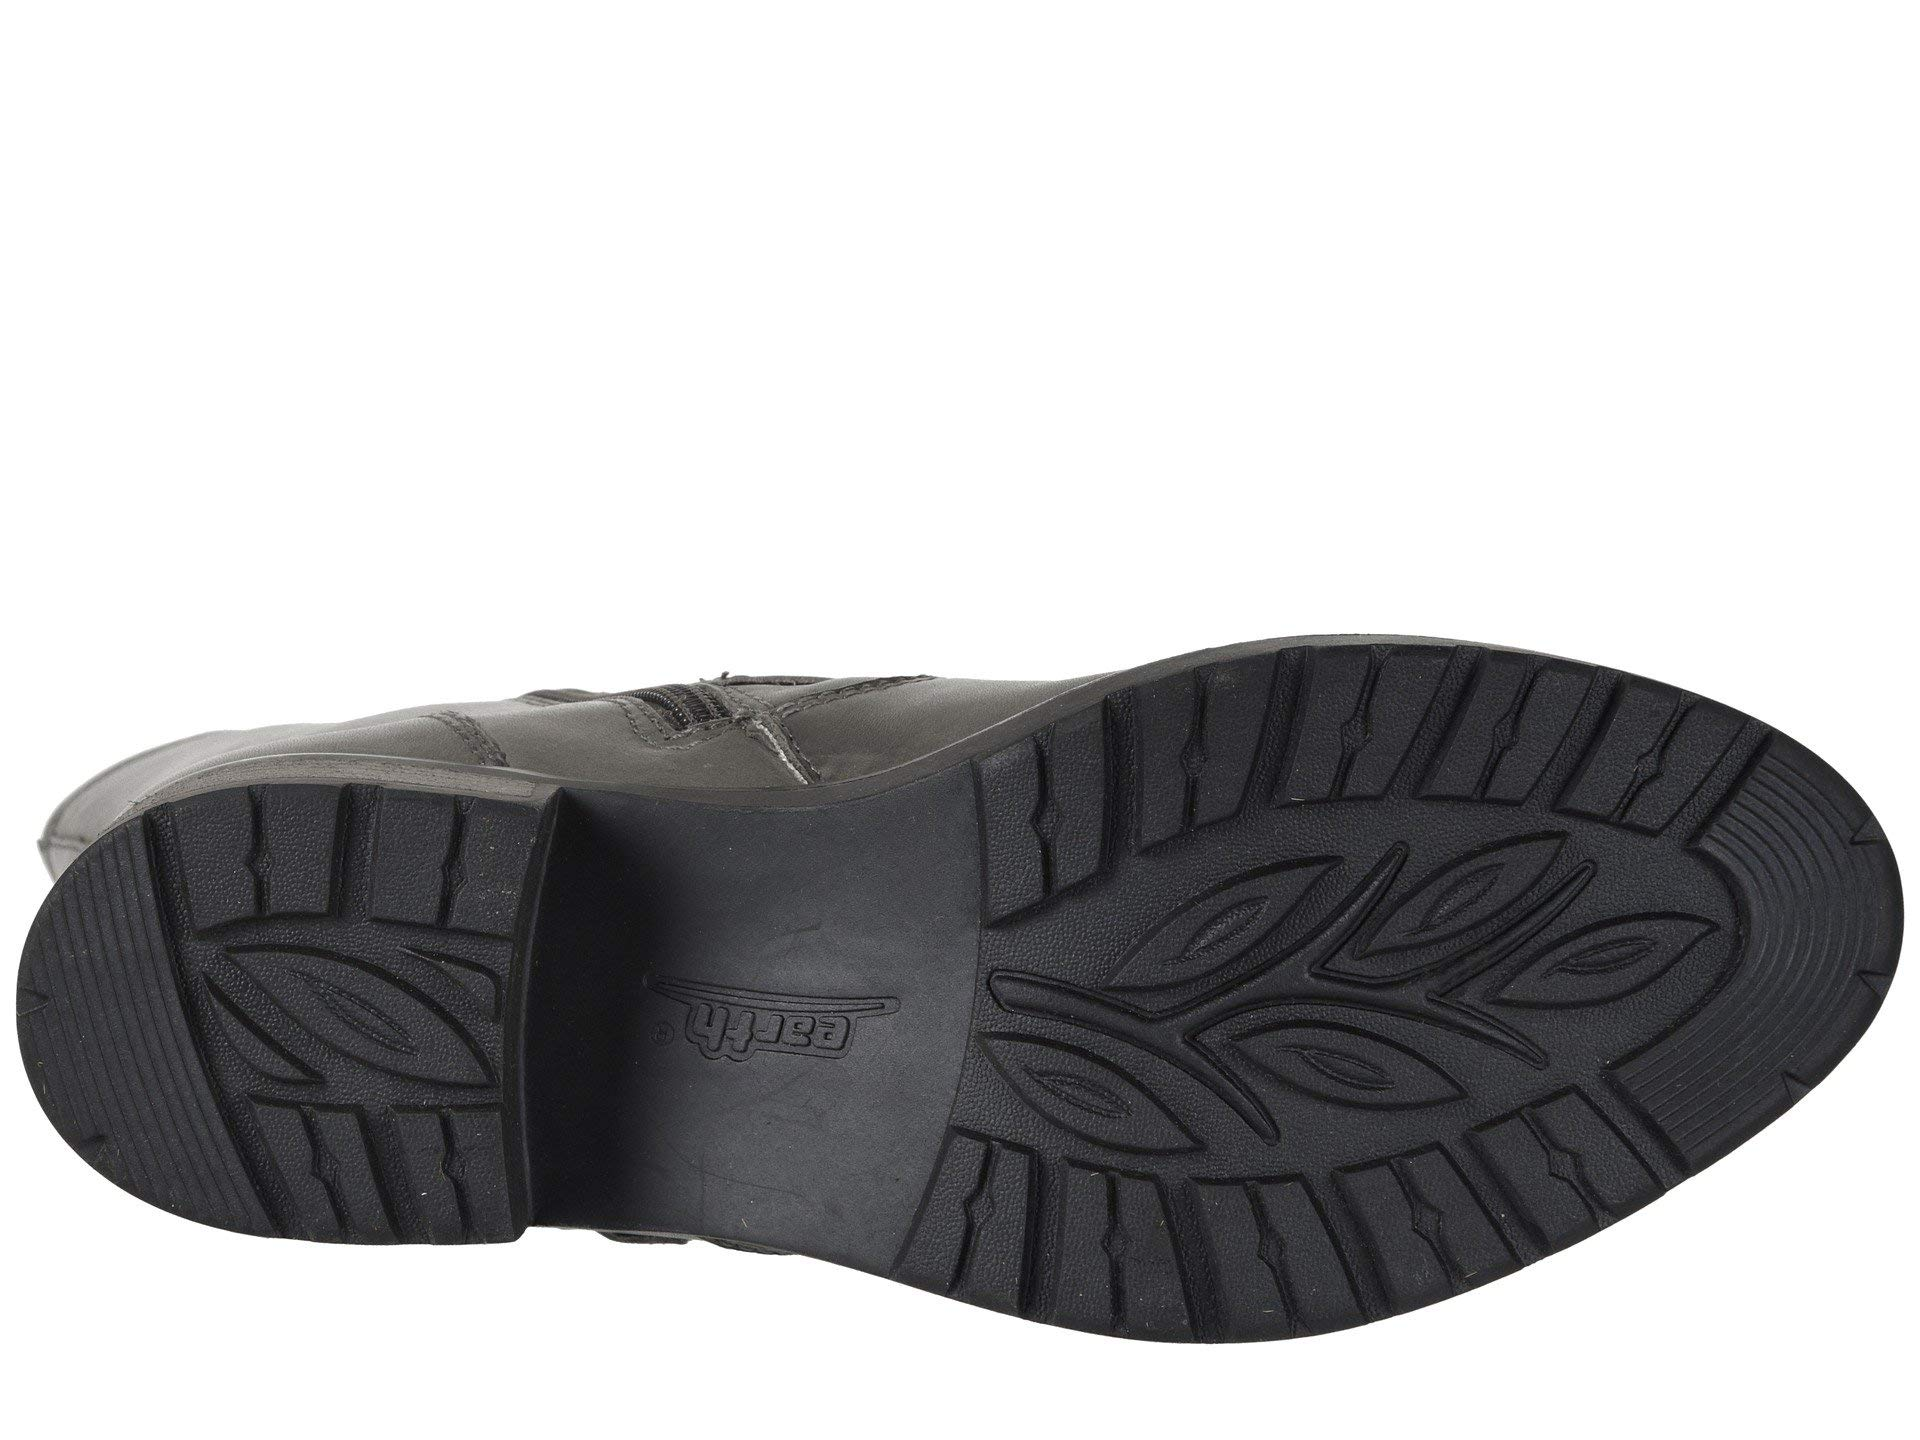line: (1064, 856, 1680, 1103), (1123, 672, 1604, 811), (621, 945, 919, 1091), (1781, 758, 1890, 1035), (17, 938, 166, 1053)
quad: (1064, 856, 1680, 1103), (1123, 672, 1604, 811), (187, 926, 543, 1106)
text: (621, 945, 919, 1091)
triangle: (187, 926, 543, 1106), (1781, 758, 1890, 1035), (17, 938, 166, 1053)
